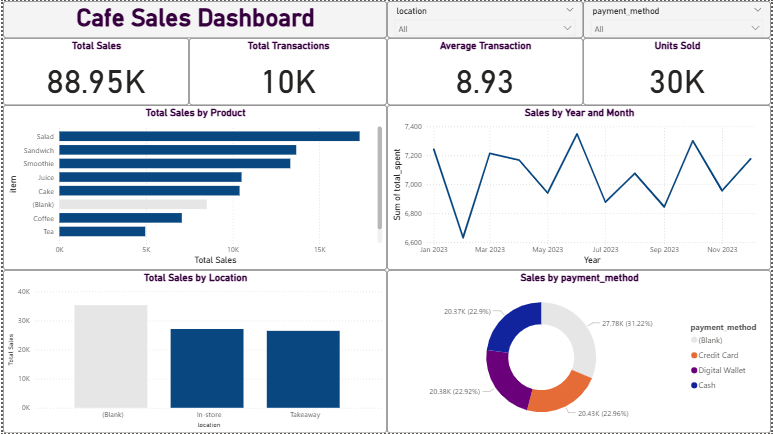

This screenshot's page, from the dashboard's own definition file:
{"tool":"powerbi","page":{"name":"Page 1","canvas":[1280,720],"ordinal":0},"visuals":[{"type":"donutChart","title":"Sales by payment_method","fields":{"Category":["FactSales.payment_method"],"Y":["FactSales.Total Sales"]},"box":[640,448.3,640,271.7],"z":0},{"type":"lineChart","title":"Sales by Year and Month","fields":{"Y":["Sum(FactSales.total_spent)"],"Category":["FactSales.transaction_date.Variation.Date Hierarchy.Year","FactSales.transaction_date.Variation.Date Hierarchy.Month"]},"box":[640,173.3,640,275],"z":1000},{"type":"clusteredBarChart","title":"Total Sales by Product","fields":{"Y":["FactSales.Total Sales"],"Category":["FactSales.item"]},"box":[0,173.3,640,275],"z":2000},{"type":"clusteredColumnChart","title":"Total Sales by Location","fields":{"Y":["FactSales.Total Sales"],"Category":["FactSales.location"]},"box":[0,448.3,640,271.7],"z":3000},{"type":"textbox","title":"Cafe Sales Dashboard","box":[0,0,640,61.7],"z":4000},{"type":"slicer","fields":{"Values":["FactSales.payment_method"]},"box":[966.7,0,313.3,61.7],"z":5000},{"type":"slicer","fields":{"Values":["FactSales.location"]},"box":[640,0,326.7,61.7],"z":6000},{"type":"card","title":"Total Sales","fields":{"Values":["FactSales.Total Sales"]},"box":[0,61.7,310,111.7],"z":7000},{"type":"card","title":"Total Transactions","fields":{"Values":["FactSales.Total Transactions"]},"box":[310,61.7,330,111.7],"z":8000},{"type":"card","title":"Average Transaction","fields":{"Values":["FactSales.Average Transaction Value"]},"box":[640,61.7,326.7,111.7],"z":9000},{"type":"card","title":"Units Sold","fields":{"Values":["Sum(FactSales.quantity)"]},"box":[966.7,61.7,313.3,111.7],"z":10000}]}

Visuals, with their boxes in screenshot pixels (x1, y1, x2, y2), scaled from the page's 1280x720 canvas onto the 773x434 screenshot:
"Sales by payment_method" donutChart: [386,270,772,433]
"Sales by Year and Month" lineChart: [386,104,772,270]
"Total Sales by Product" clusteredBarChart: [0,104,386,270]
"Total Sales by Location" clusteredColumnChart: [0,270,386,433]
"Cafe Sales Dashboard" textbox: [0,0,386,37]
slicer - FactSales.payment_method: [584,0,772,37]
slicer - FactSales.location: [386,0,584,37]
"Total Sales" card: [0,37,187,105]
"Total Transactions" card: [187,37,386,105]
"Average Transaction" card: [386,37,584,105]
"Units Sold" card: [584,37,772,105]
